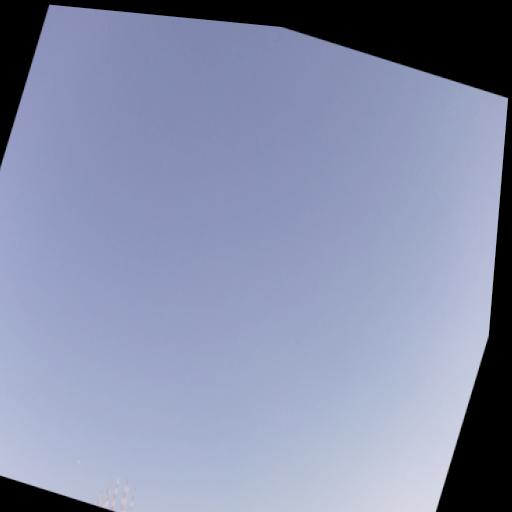drones: (73, 455, 82, 467)
